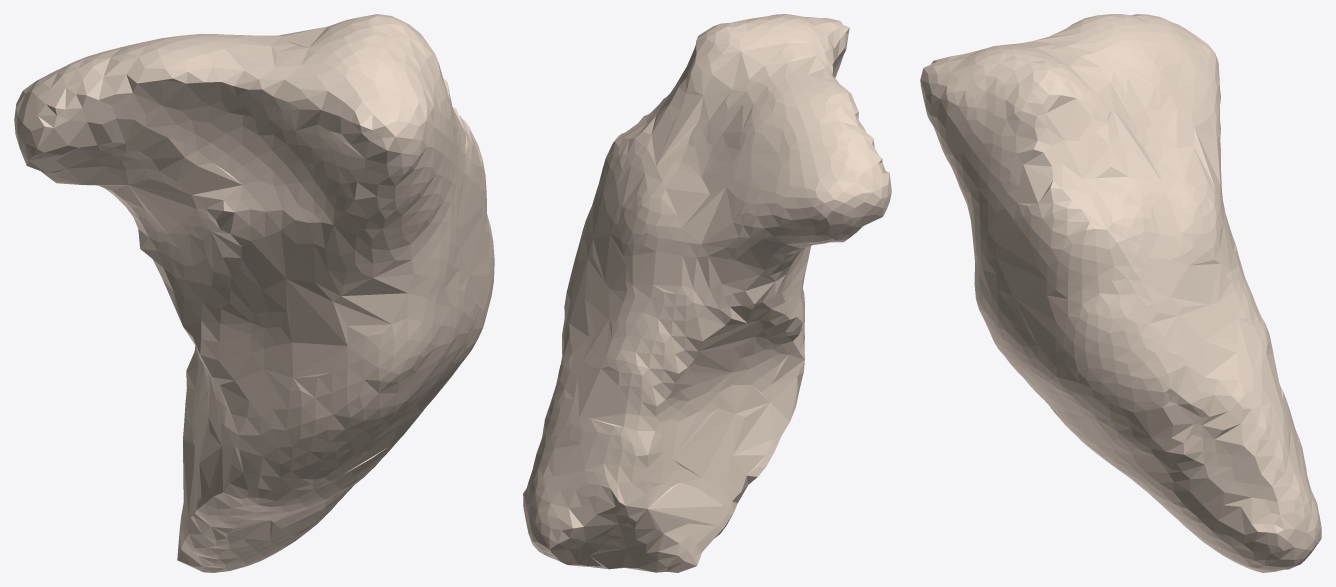
The model's file is Model_10626_LH__Medial_vestibular_nucleus_(MVe).obj.
3 views of the same model, side by side, from view 1: azimuth 30°, elevation 25°; view 2: azimuth 150°, elevation 25°; view 3: azimuth 270°, elevation 25° (orthographic). The views are drawn at different scales.
Size of the model in its own units: 2.26 by 3.18 by 2.38.
